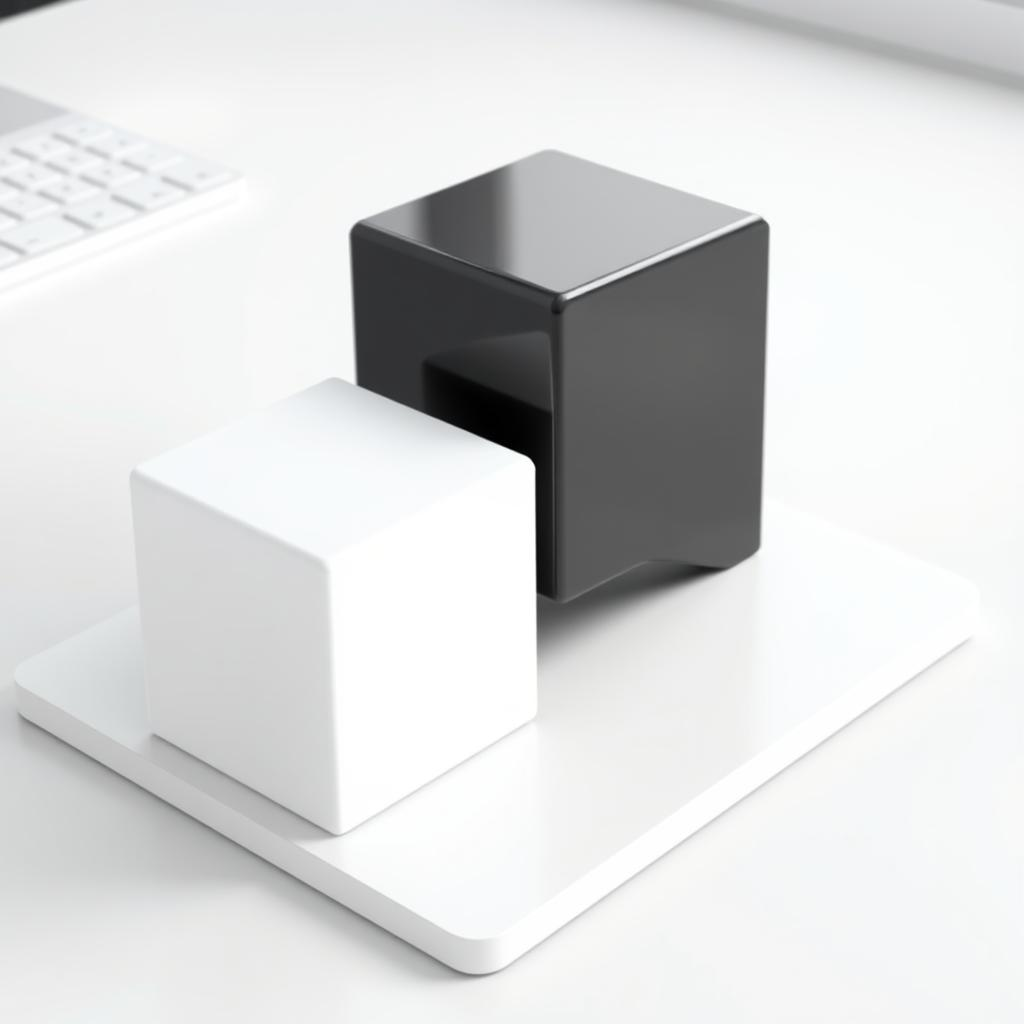cube: (348, 147, 770, 604), (128, 374, 539, 835)
